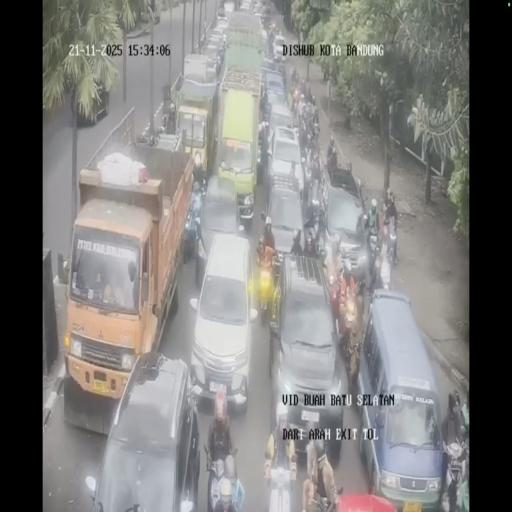car: (356, 291, 442, 503), (88, 352, 200, 509), (268, 255, 347, 456), (320, 164, 370, 282), (195, 172, 241, 282), (263, 180, 306, 273), (266, 101, 296, 148), (261, 68, 287, 110), (202, 30, 226, 73), (271, 35, 287, 61), (260, 27, 268, 61), (215, 6, 229, 25), (262, 0, 276, 18), (252, 4, 264, 22), (239, 0, 252, 13)
motorcycle: (205, 443, 242, 510), (254, 246, 278, 322), (365, 230, 383, 292), (347, 255, 368, 302), (302, 110, 319, 150), (302, 224, 320, 258), (301, 156, 314, 202), (387, 220, 398, 266), (290, 98, 302, 127), (326, 148, 338, 171)
truck: (172, 70, 218, 182), (221, 9, 264, 76)
